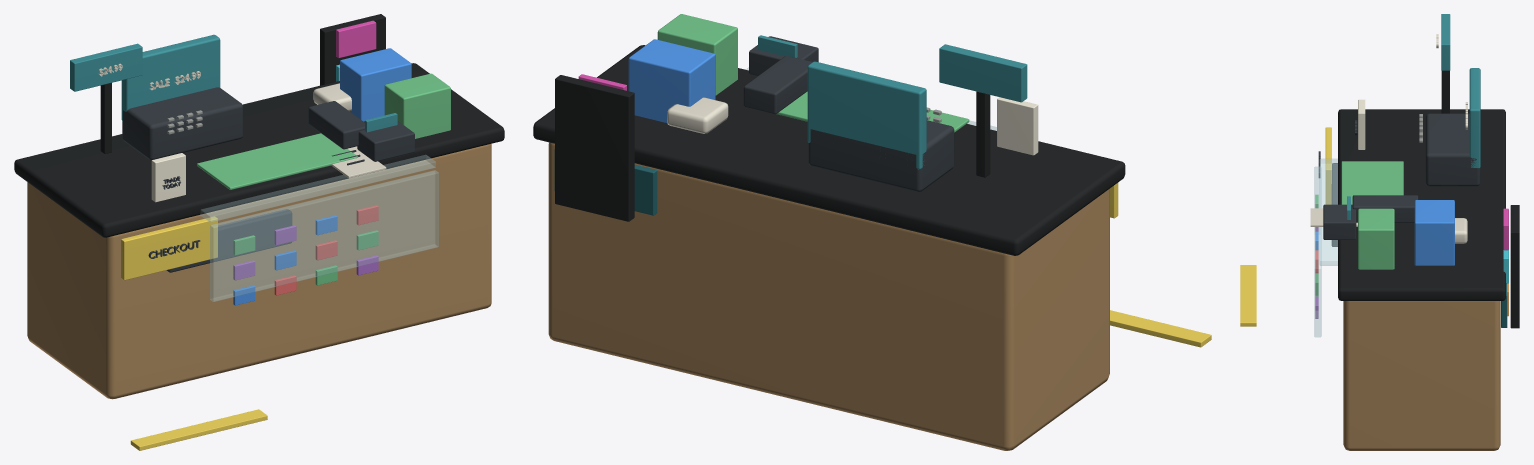
Rendered from checkout_counter_register.glb.
3 views of the same model, side by side, from view 1: azimuth 30°, elevation 25°; view 2: azimuth 150°, elevation 25°; view 3: azimuth 270°, elevation 25° (orthographic). The views are drawn at different scales.
Parts seen in each view (by area): view 1: checkout_counter_laminate_base, checkout_counter_black_top, glass_counter_display_front, register_body, register_screen, counter_trade_mat_placeholder, customer_side_counter_sign, glass_counter_display_top, counter_console_box_green, counter_console_box_blue, register_customer_display, cash_drawer_front (+9 smaller); view 2: checkout_counter_laminate_base, checkout_counter_black_top, counter_impulse_rack_back, register_screen, register_body, counter_console_box_blue, register_customer_display, counter_console_box_green, barcode_scanner_wedge, counter_flyer_stand, receipt_roll, customer_queue_floor_marker (+4 smaller); view 3: checkout_counter_laminate_base, checkout_counter_black_top, register_body, counter_console_box_blue, counter_console_box_green, counter_trade_mat_placeholder, glass_counter_display_top, counter_impulse_rack_back, barcode_scanner_wedge, glass_counter_display_front, register_screen, card_reader_body (+7 smaller).
Boxes of the visible parts, box(x1,y1,x2,y2) form: checkout_counter_laminate_base: box(27, 144, 491, 399); checkout_counter_black_top: box(14, 63, 504, 237); glass_counter_display_front: box(210, 170, 438, 301); register_body: box(122, 87, 242, 159); register_screen: box(121, 34, 220, 120); counter_trade_mat_placeholder: box(197, 133, 358, 189); customer_side_counter_sign: box(121, 216, 217, 280); glass_counter_display_top: box(200, 155, 435, 222); counter_console_box_green: box(384, 73, 450, 138); counter_console_box_blue: box(340, 48, 411, 121); register_customer_display: box(70, 43, 142, 91); cash_drawer_front: box(166, 209, 292, 272); checkout_counter_laminate_base: box(548, 142, 1109, 450); checkout_counter_black_top: box(533, 45, 1125, 255); counter_impulse_rack_back: box(555, 75, 634, 221); register_screen: box(807, 61, 926, 169); register_body: box(808, 120, 954, 191); counter_console_box_blue: box(628, 39, 715, 122); register_customer_display: box(939, 44, 1027, 102); counter_console_box_green: box(657, 14, 737, 95); barcode_scanner_wedge: box(743, 56, 812, 114); counter_flyer_stand: box(997, 97, 1038, 155); receipt_roll: box(667, 97, 728, 133); customer_queue_floor_marker: box(1110, 310, 1211, 347); checkout_counter_laminate_base: box(1343, 301, 1500, 450); checkout_counter_black_top: box(1338, 109, 1505, 300); register_body: box(1425, 113, 1480, 186); counter_console_box_blue: box(1414, 200, 1454, 265); counter_console_box_green: box(1358, 208, 1394, 269); counter_trade_mat_placeholder: box(1341, 161, 1403, 204); glass_counter_display_top: box(1319, 158, 1337, 265); counter_impulse_rack_back: box(1510, 205, 1519, 328); barcode_scanner_wedge: box(1352, 195, 1418, 222); glass_counter_display_front: box(1314, 166, 1321, 337); register_screen: box(1469, 68, 1480, 168); card_reader_body: box(1323, 204, 1356, 239).
Bounding box in the file's own units: 2.45 × 1.66 × 1.53.
